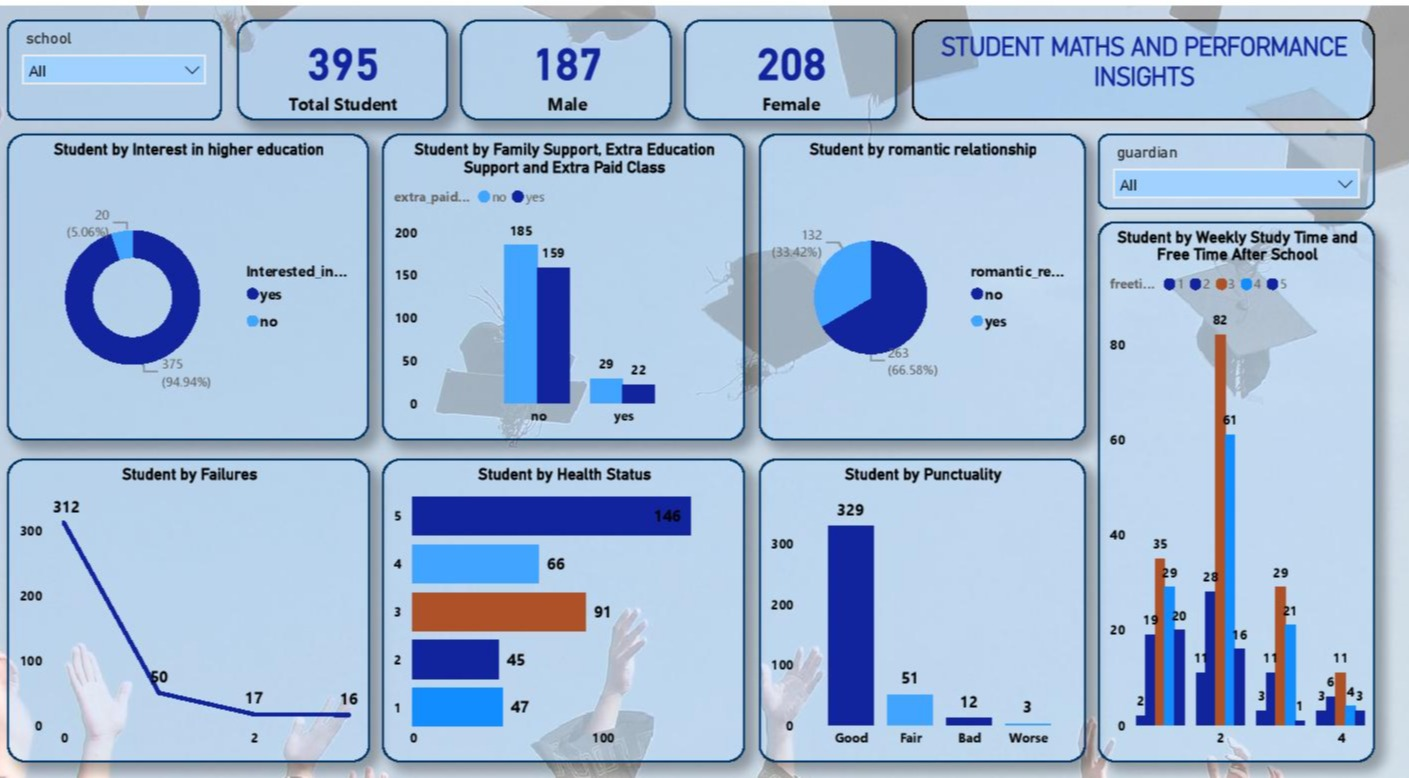

Layout of this report page (visuals, bound fields, positions):
{"tool":"powerbi","page":{"name":"Page 1","canvas":[1280,720],"ordinal":0},"visuals":[{"type":"card","fields":{"Values":["student-mat.Total Student"]},"box":[221.8,13,194.4,92.2],"z":0},{"type":"card","fields":{"Values":["student-mat.Male"]},"box":[427.7,13,194.4,92.2],"z":1000},{"type":"card","fields":{"Values":["student-mat.Female"]},"box":[633.6,13,195.8,92.2],"z":2000},{"type":"donutChart","title":"Student by Interest in higher education","fields":{"Category":["student-mat.Interested_in_higher_edu"],"Y":["student-mat.Total Student"]},"box":[10.1,118.1,332.6,282.2],"z":3000},{"type":"clusteredColumnChart","title":"Student by Weekly Study Time and Free Time After School","fields":{"Category":["student-mat.weekly_studytime"],"Series":["student-mat.freetime_after_school"],"Y":["student-mat.Total Student"]},"box":[1015.2,198.7,254.9,498.2],"z":4000},{"type":"clusteredColumnChart","title":"Student by Family Support, Extra Education Support and Extra Paid Class","fields":{"Category":["student-mat.extra_edu_supp"],"Series":["student-mat.extra_paid_class"],"Y":["CountNonNull(student-mat.family_edu_supp)"]},"box":[355.7,118.1,334.1,282.2],"z":5000},{"type":"lineChart","title":"Student by Failures","fields":{"Category":["student-mat.failures"],"Y":["student-mat.Total Student"]},"box":[10.1,417.6,334.1,279.4],"z":6000},{"type":"pieChart","title":"Student by romantic relationship","fields":{"Category":["student-mat.romantic_relationship"],"Y":["student-mat.Total Student"]},"box":[702.7,118.1,301,282.2],"z":7000},{"type":"clusteredBarChart","title":"Student by Health Status","fields":{"Category":["student-mat.health_status"],"Y":["student-mat.Total Student"]},"box":[355.7,417.6,334.1,279.4],"z":8000},{"type":"clusteredColumnChart","title":"Student by Punctuality","fields":{"Category":["student-mat.Punctual"],"Y":["student-mat.Total Student"]},"box":[702.7,417.6,301,279.4],"z":9000},{"type":"slicer","fields":{"Values":["student-mat.school"]},"box":[10.1,13,197.3,92.2],"z":10000},{"type":"slicer","fields":{"Values":["student-mat.guardian"]},"box":[1015.2,118.1,254.9,69.1],"z":11000},{"type":"textbox","box":[843.8,13,426.2,92.2],"z":12000}]}

Visuals, with their boxes in screenshot pixels (x1, y1, x2, y2), scaled from the page's 1280x720 canvas onto the 1409x778 screenshot:
card - student-mat.Total Student: [x1=244, y1=14, x2=458, y2=114]
card - student-mat.Male: [x1=471, y1=14, x2=685, y2=114]
card - student-mat.Female: [x1=697, y1=14, x2=913, y2=114]
"Student by Interest in higher education" donutChart: [x1=11, y1=128, x2=377, y2=433]
"Student by Weekly Study Time and Free Time After School" clusteredColumnChart: [x1=1118, y1=215, x2=1398, y2=753]
"Student by Family Support, Extra Education Support and Extra Paid Class" clusteredColumnChart: [x1=392, y1=128, x2=759, y2=433]
"Student by Failures" lineChart: [x1=11, y1=451, x2=379, y2=753]
"Student by romantic relationship" pieChart: [x1=774, y1=128, x2=1105, y2=433]
"Student by Health Status" clusteredBarChart: [x1=392, y1=451, x2=759, y2=753]
"Student by Punctuality" clusteredColumnChart: [x1=774, y1=451, x2=1105, y2=753]
slicer - student-mat.school: [x1=11, y1=14, x2=228, y2=114]
slicer - student-mat.guardian: [x1=1118, y1=128, x2=1398, y2=202]
textbox: [x1=929, y1=14, x2=1398, y2=114]
